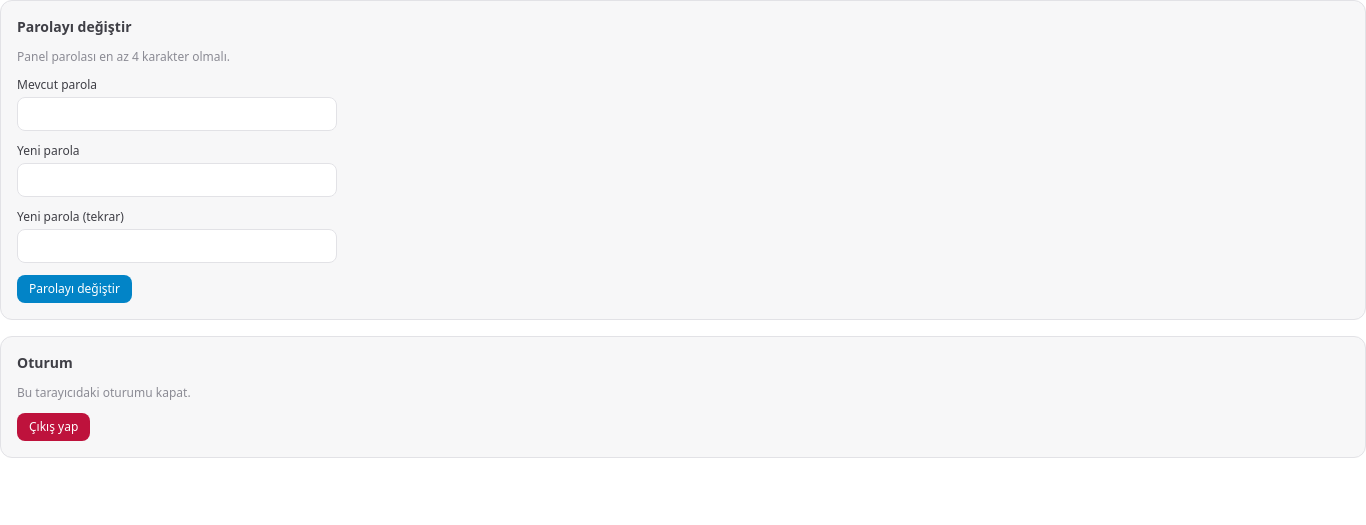
Scenario: SecuritySection password change › rejects mismatched confirmation client-side
In the password field labelled "Mevcut parola": (177, 114) top-left (17, 97), bottom-right (337, 131), type "old-password"
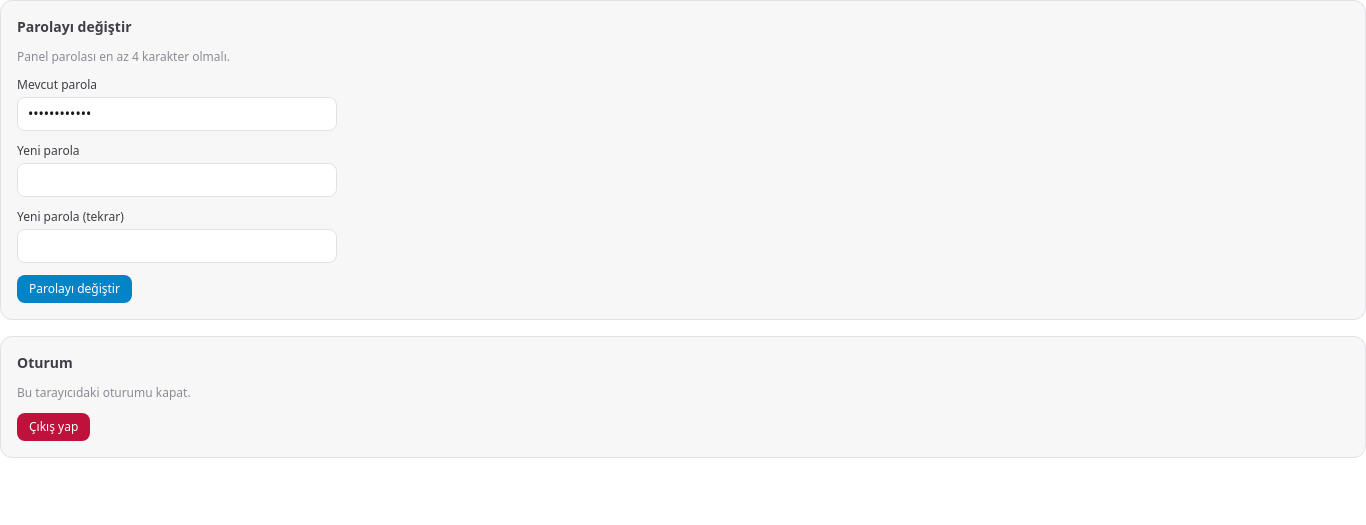
In the password field labelled "Yeni parola": (177, 180) top-left (17, 163), bottom-right (337, 197), type "long-enough-pw"
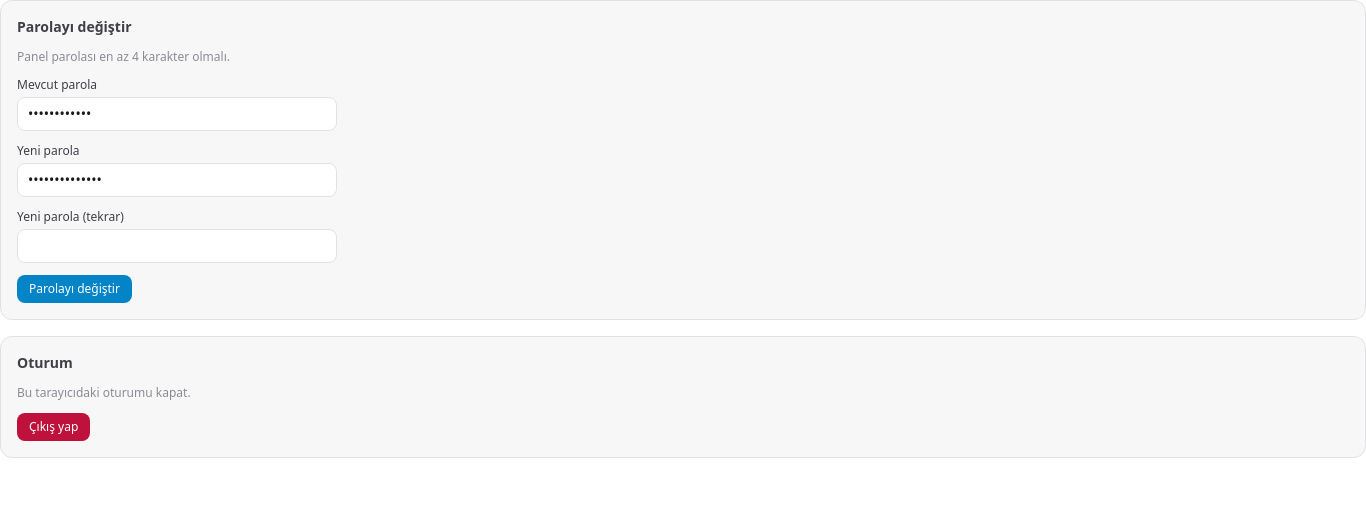
In the password field labelled "Yeni parola (tekrar)": (177, 246) top-left (17, 229), bottom-right (337, 263), type "long-enough-px"
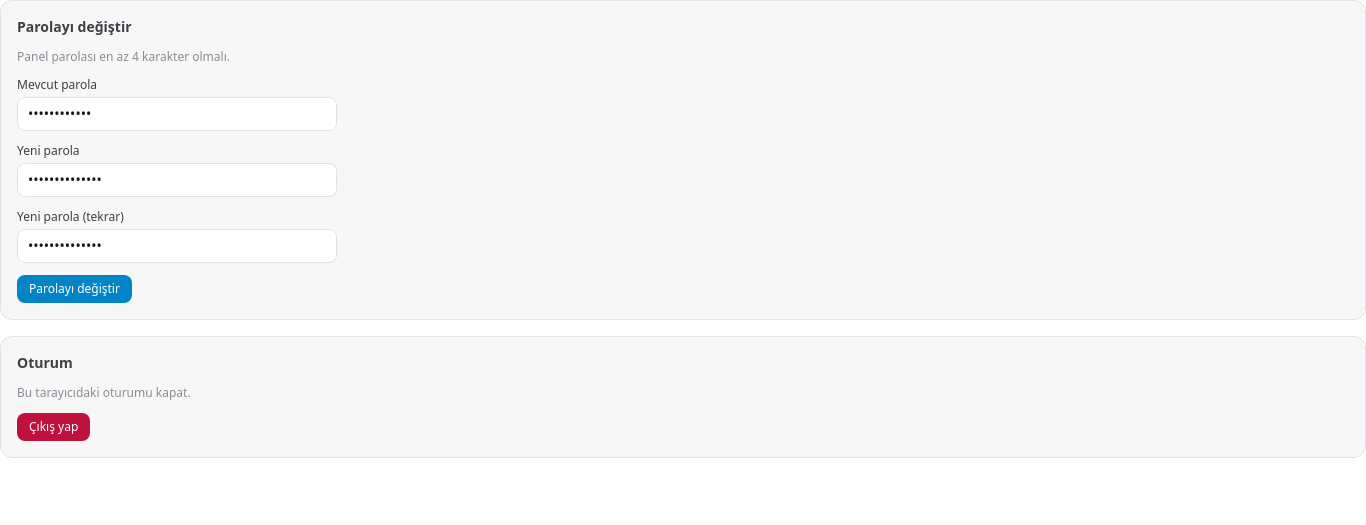
Click the button "Parolayı değiştir": (74, 289) top-left (17, 275), bottom-right (132, 303)
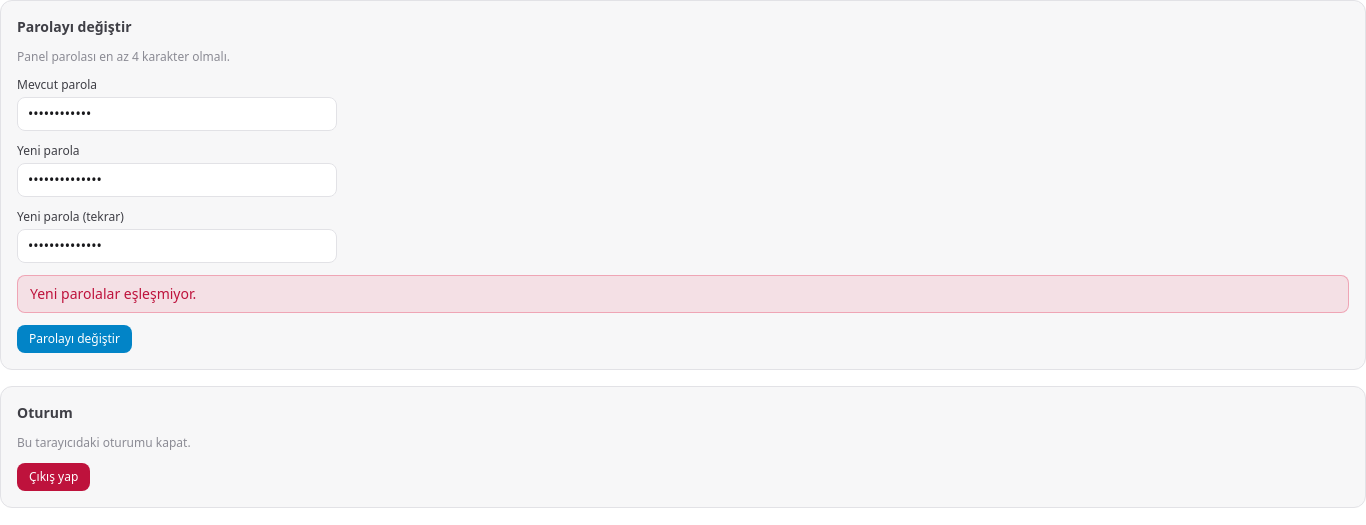
Now the text "Yeni parolalar eşleşmiyor." is shown, box top-left (17, 275), bottom-right (1349, 313)
